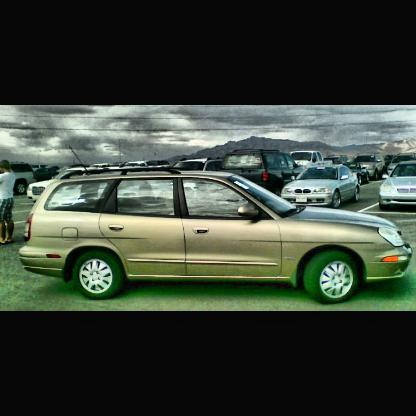Daewoo Nubira Wagon 2002: (20, 171, 414, 306)
